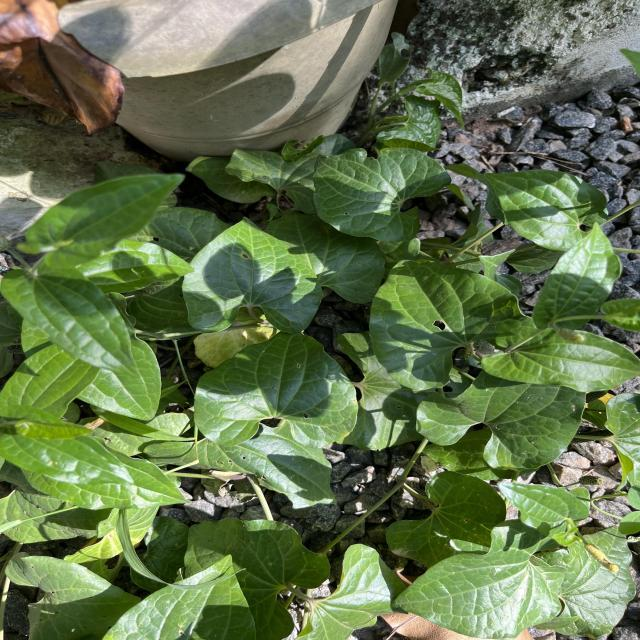Piper longum: (368, 256, 540, 392), (390, 516, 570, 640), (192, 328, 360, 451), (180, 214, 326, 337), (311, 145, 454, 244), (482, 167, 611, 253)
